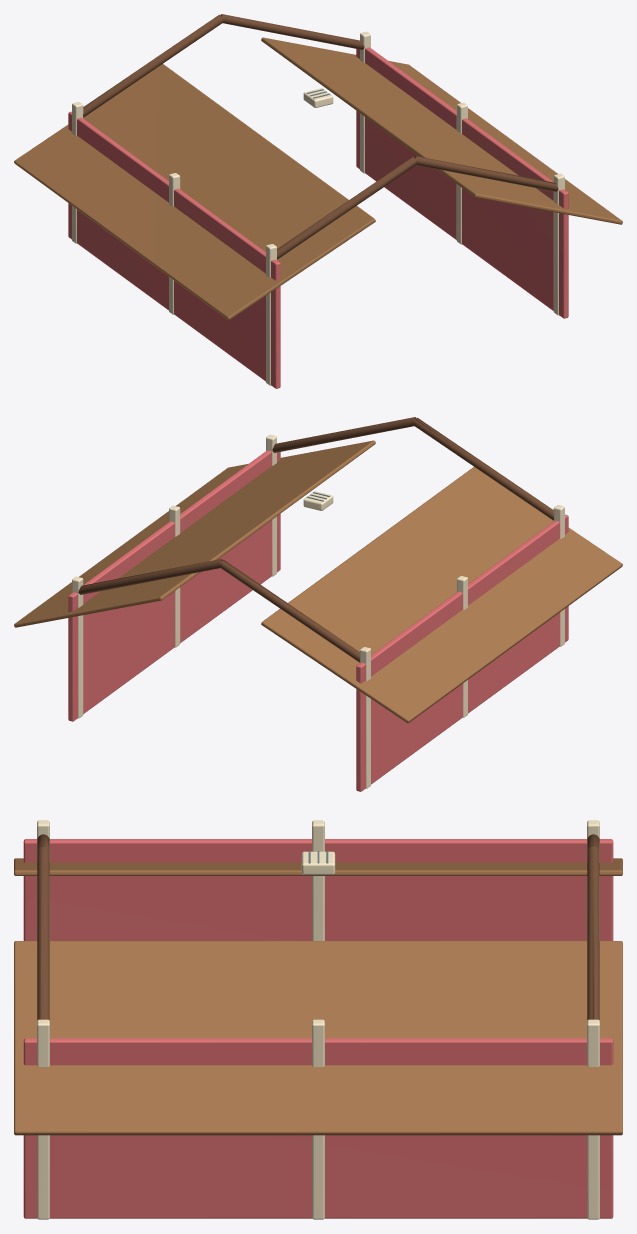
File: race_barn_mobile.glb
3 views of the same model, one above another, from view 1: azimuth 30°, elevation 25°; view 2: azimuth 150°, elevation 25°; view 3: azimuth 270°, elevation 25° (orthographic). The views are drawn at different scales.
Parts seen in each view (by area): view 1: race_barn; view 2: race_barn; view 3: race_barn, CraftDetails.
Boxes of the visible parts, left/top/right/bottom form: race_barn: left=14, top=14, right=622, bottom=388; race_barn: left=14, top=417, right=622, bottom=791; race_barn: left=14, top=820, right=622, bottom=1219; CraftDetails: left=301, top=851, right=335, bottom=874.
Size of the model in its own units: 32.96 by 15.3 by 31.
